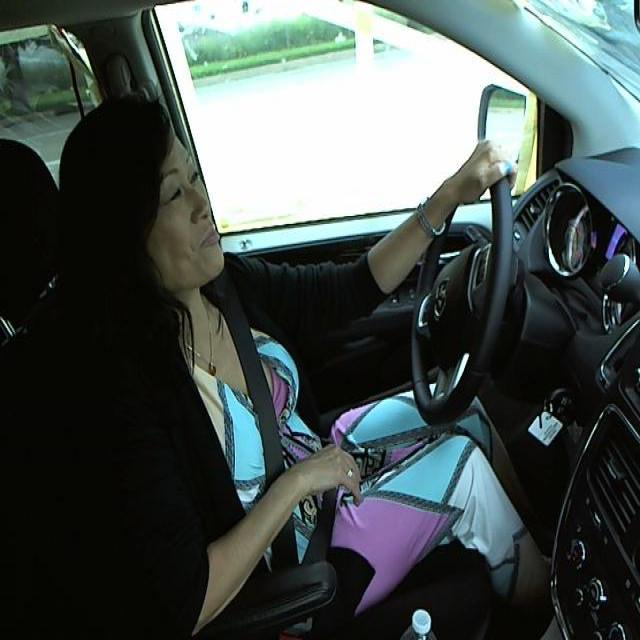seatbelt: (217, 291, 346, 577)
